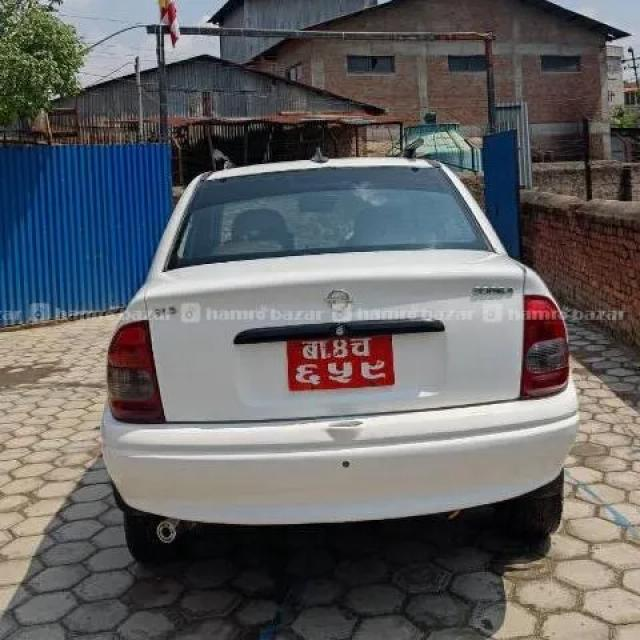License-plate: (285, 337, 397, 388)
